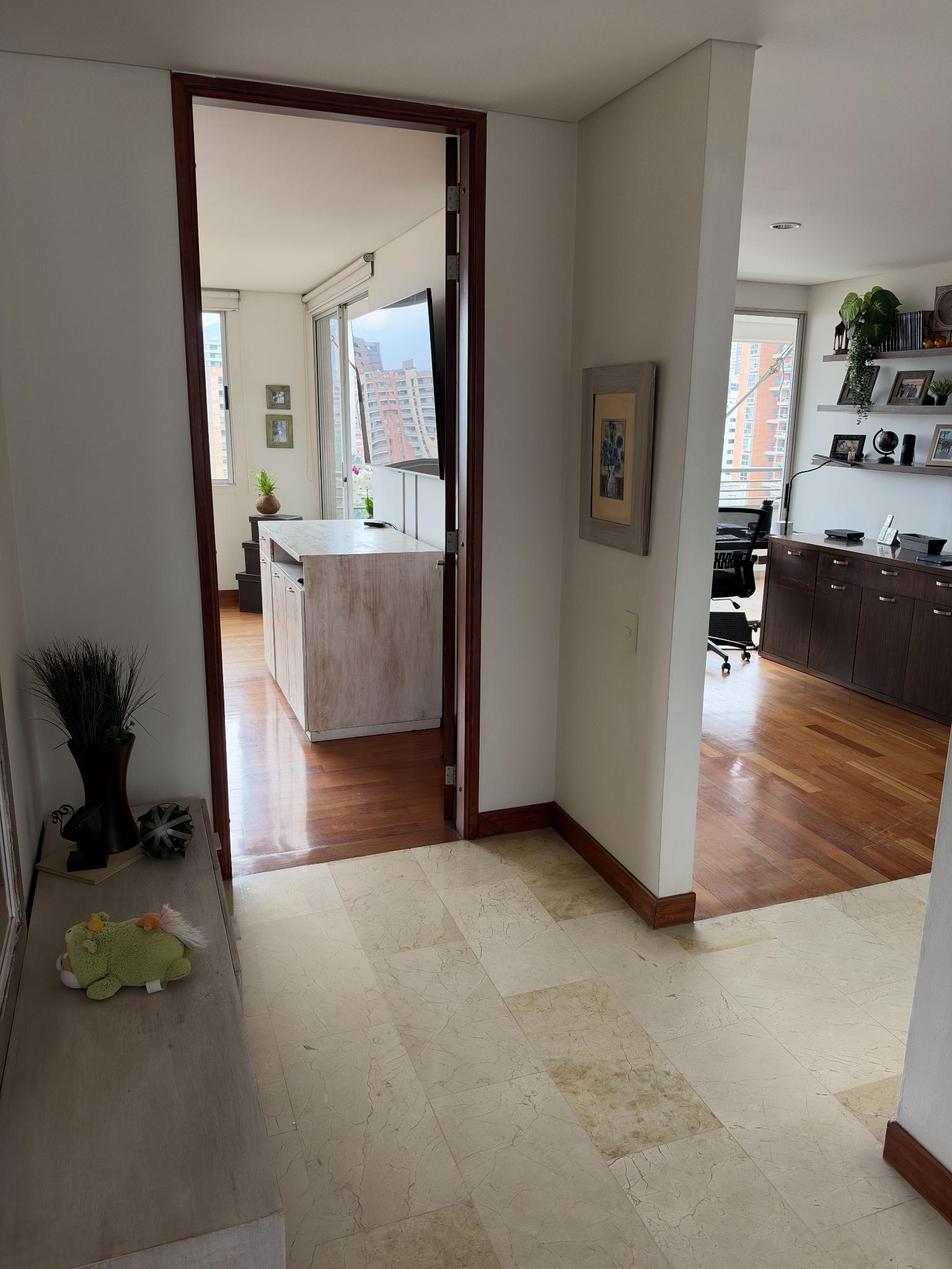peluche_martin: (55, 903, 210, 1000)
